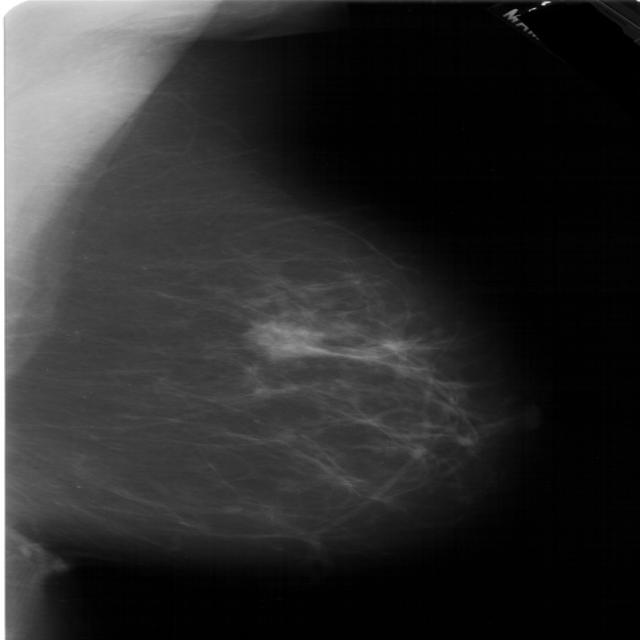tumour: (241, 318, 324, 360)
